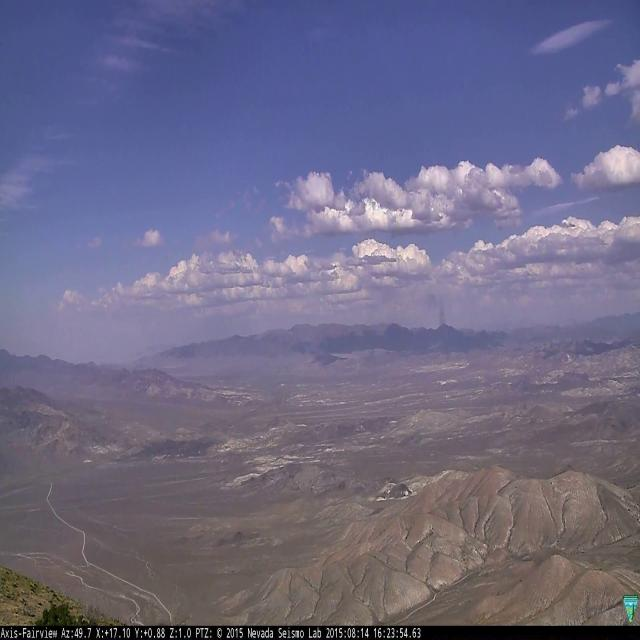smoke: (424, 290, 452, 361)
